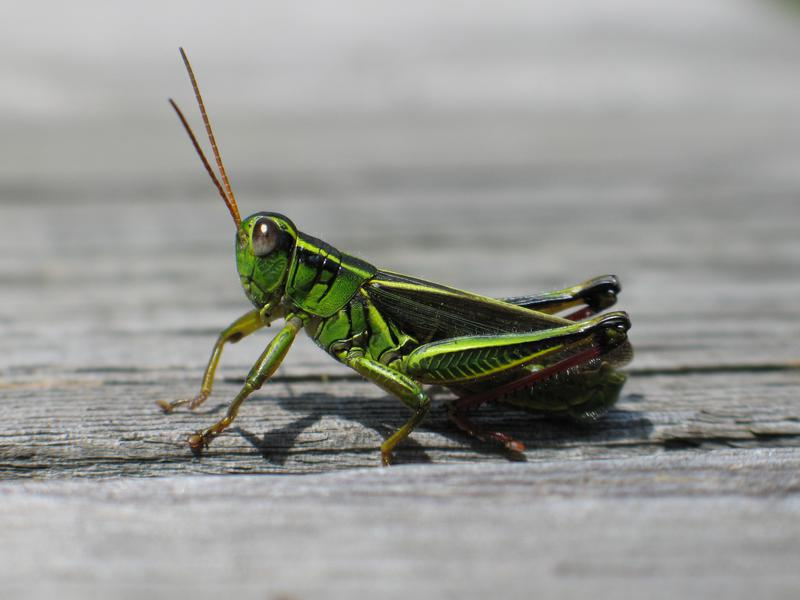Grasshopper: (175, 187, 673, 471)
